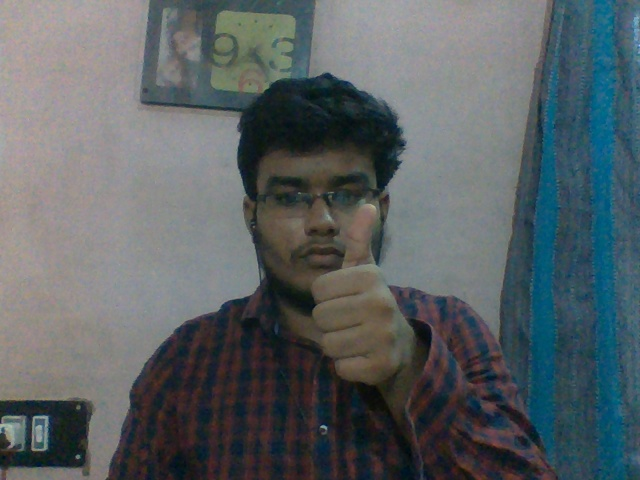ThumbsUp: (310, 203, 403, 386)
